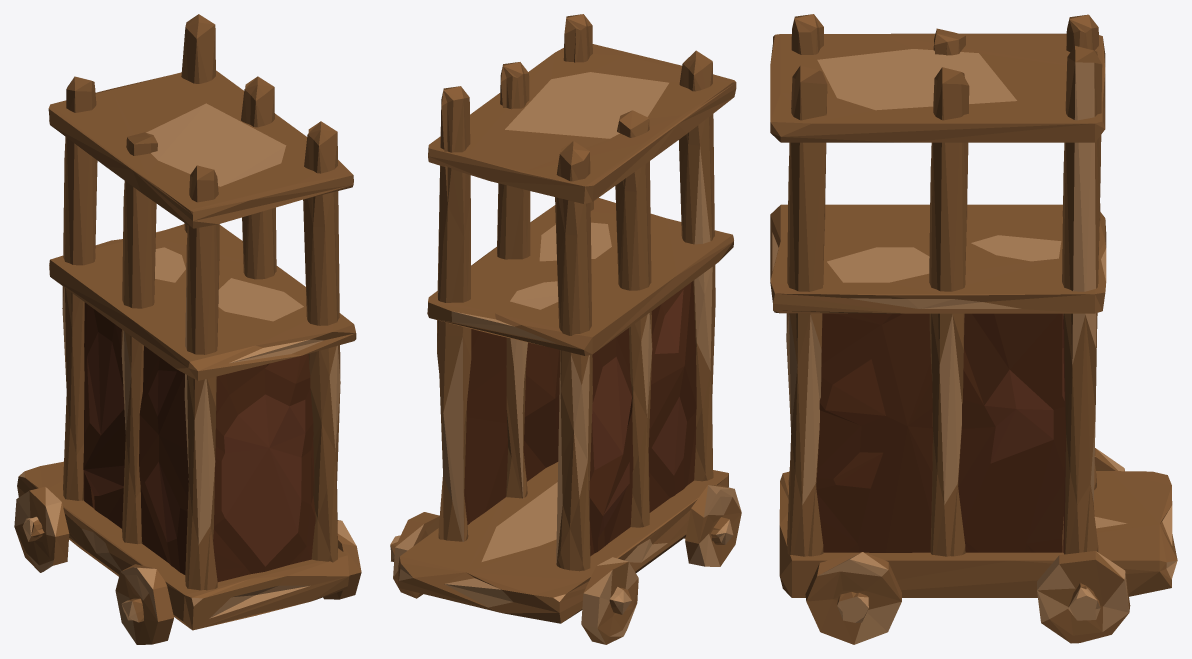
The model's file is LPSWP_Belfry01.fbx.
3 renders of one model, left to right at view 1: azimuth 30°, elevation 25°; view 2: azimuth 150°, elevation 25°; view 3: azimuth 270°, elevation 25°, orthographic. The views are drawn at different scales.
Visible parts, largest first — view 1: LPSWP_Belfry01, LPSWP_Belfry01_ForwardWheel, LPSWP_Belfry01_BackwardWheel; view 2: LPSWP_Belfry01, LPSWP_Belfry01_BackwardWheel, LPSWP_Belfry01_ForwardWheel; view 3: LPSWP_Belfry01, LPSWP_Belfry01_BackwardWheel, LPSWP_Belfry01_ForwardWheel.
Boxes of the visible parts, x1,y1,x2,y2 form: LPSWP_Belfry01: (17, 14, 356, 630); LPSWP_Belfry01_ForwardWheel: (115, 520, 361, 644); LPSWP_Belfry01_BackwardWheel: (14, 486, 69, 572); LPSWP_Belfry01: (398, 14, 736, 623); LPSWP_Belfry01_BackwardWheel: (390, 512, 638, 644); LPSWP_Belfry01_ForwardWheel: (684, 485, 741, 566); LPSWP_Belfry01: (770, 14, 1177, 597); LPSWP_Belfry01_BackwardWheel: (1037, 448, 1130, 643); LPSWP_Belfry01_ForwardWheel: (805, 552, 901, 644).
Bounding box in the file's own units: 2.82 × 5.98 × 3.83.
